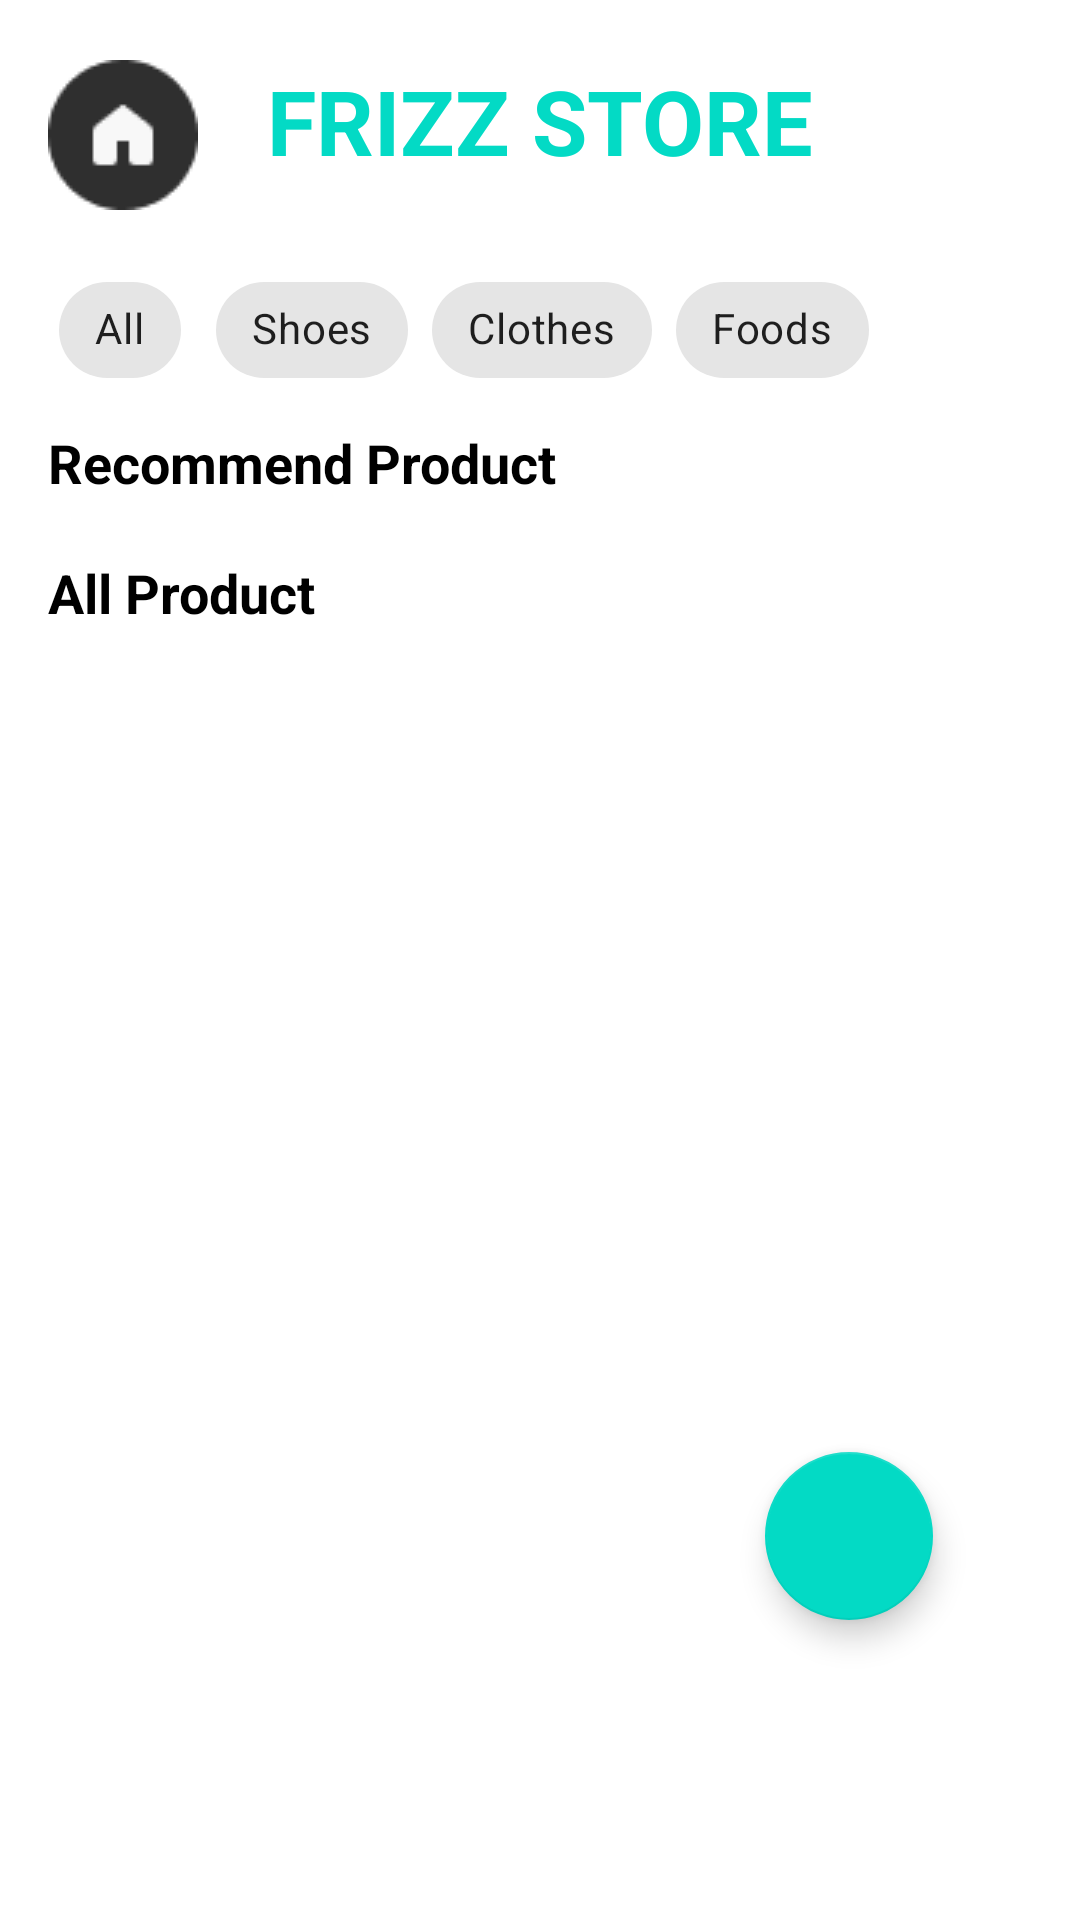

Icon bounding boxes for this 1080*1920 phone screenshot, format box(x1, y1, x2, y2):
home: box(48, 60, 198, 210)
